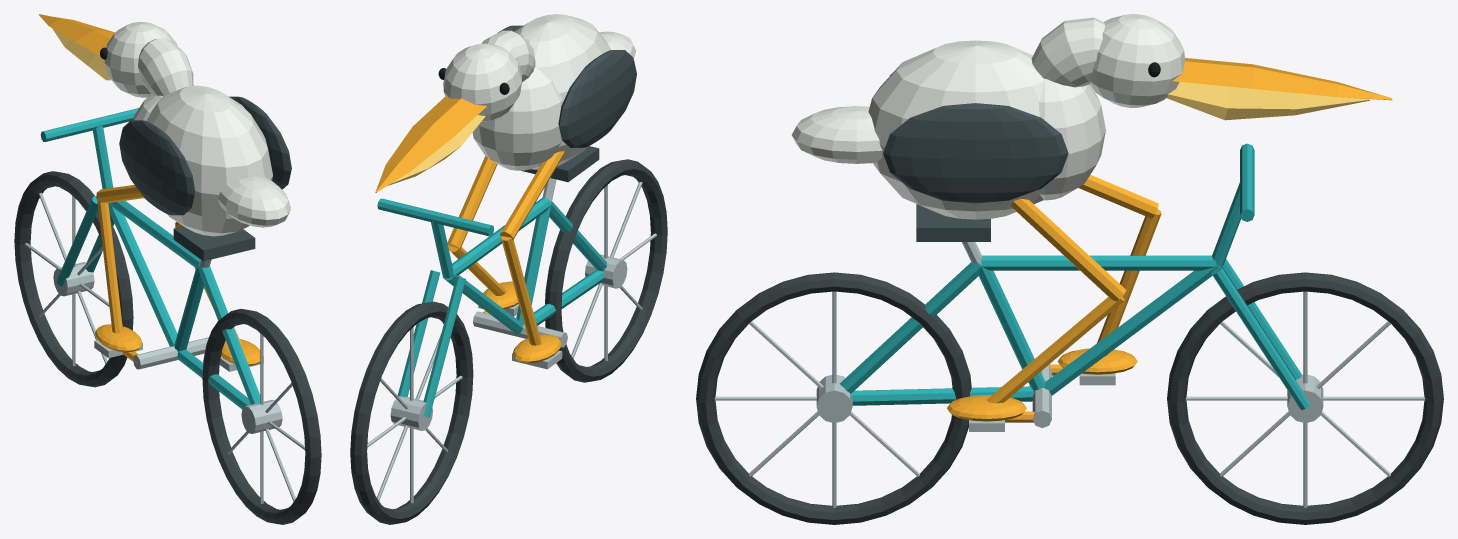
File: negative-static.glb
3 renders of one model, left to right at view 1: azimuth 30°, elevation 25°; view 2: azimuth 150°, elevation 25°; view 3: azimuth 270°, elevation 25°, orthographic. The views are drawn at different scales.
Parts seen in each view (by area): view 1: PelicanBody, TyreRear, TyreFront, FoldedWingLeft, Tail, PelicanHead, Neck, FrameTube4, Saddle, FrameTube0, FoldedWingRight, ShinLeft (+15 smaller); view 2: TyreFront, TyreRear, Breast, FoldedWingLeft, PelicanBody, PelicanHead, Beak, Fork-0.065, ThighLeft, Handlebar, ShinLeft, ThighRight (+17 smaller); view 3: TyreFront, FoldedWingRight, TyreRear, PelicanBody, PelicanHead, Breast, Pouch, Tail, Beak, Neck, FrameTube3, FrameTube4 (+16 smaller).
Part boxes in pixels (x1=…): PelicanBody: x1=146, y1=85, x2=272, y2=236; TyreRear: x1=202, y1=309, x2=321, y2=524; TyreFront: x1=14, y1=171, x2=133, y2=387; FoldedWingLeft: x1=119, y1=120, x2=195, y2=215; Tail: x1=217, y1=176, x2=290, y2=227; PelicanHead: x1=104, y1=22, x2=177, y2=97; Neck: x1=138, y1=38, x2=193, y2=96; FrameTube4: x1=108, y1=204, x2=177, y2=346; Saddle: x1=173, y1=226, x2=255, y2=261; FrameTube0: x1=198, y1=266, x2=260, y2=404; FoldedWingRight: x1=229, y1=96, x2=291, y2=189; ShinLeft: x1=97, y1=200, x2=123, y2=333; TyreFront: x1=350, y1=301, x2=473, y2=524; TyreRear: x1=545, y1=159, x2=667, y2=382; Breast: x1=472, y1=66, x2=563, y2=170; FoldedWingLeft: x1=558, y1=50, x2=636, y2=147; PelicanBody: x1=514, y1=14, x2=610, y2=169; PelicanHead: x1=443, y1=43, x2=521, y2=121; Beak: x1=375, y1=96, x2=486, y2=192; Fork-0.065: x1=423, y1=276, x2=465, y2=417; ThighLeft: x1=500, y1=151, x2=564, y2=240; Handlebar: x1=377, y1=198, x2=493, y2=236; ShinLeft: x1=501, y1=236, x2=541, y2=345; ThighRight: x1=447, y1=156, x2=497, y2=249; TyreFront: x1=1167, y1=272, x2=1443, y2=524; FoldedWingRight: x1=883, y1=103, x2=1068, y2=203; TyreRear: x1=696, y1=272, x2=971, y2=524; PelicanBody: x1=868, y1=40, x2=1043, y2=219; PelicanHead: x1=1089, y1=14, x2=1185, y2=107; Breast: x1=1039, y1=78, x2=1105, y2=200; Pouch: x1=1166, y1=82, x2=1369, y2=120; Tail: x1=791, y1=106, x2=882, y2=163; Beak: x1=1172, y1=58, x2=1392, y2=100; Neck: x1=1031, y1=17, x2=1104, y2=87; FrameTube3: x1=981, y1=255, x2=1216, y2=270; FrameTube4: x1=1044, y1=266, x2=1220, y2=395.
Size of the model in its own units: 0.608 by 2.01 by 2.7.
